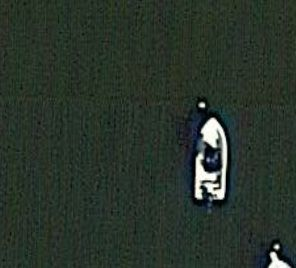boat: (188, 113, 231, 204)
